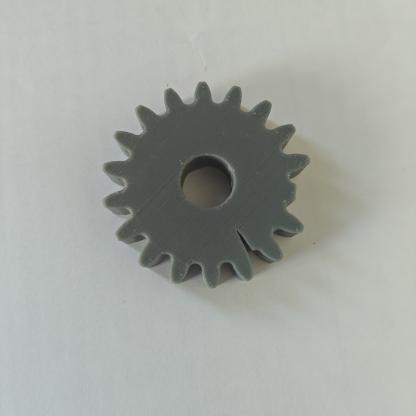defect: (210, 218, 288, 282), (271, 158, 319, 211)
gear: (81, 66, 347, 311)
